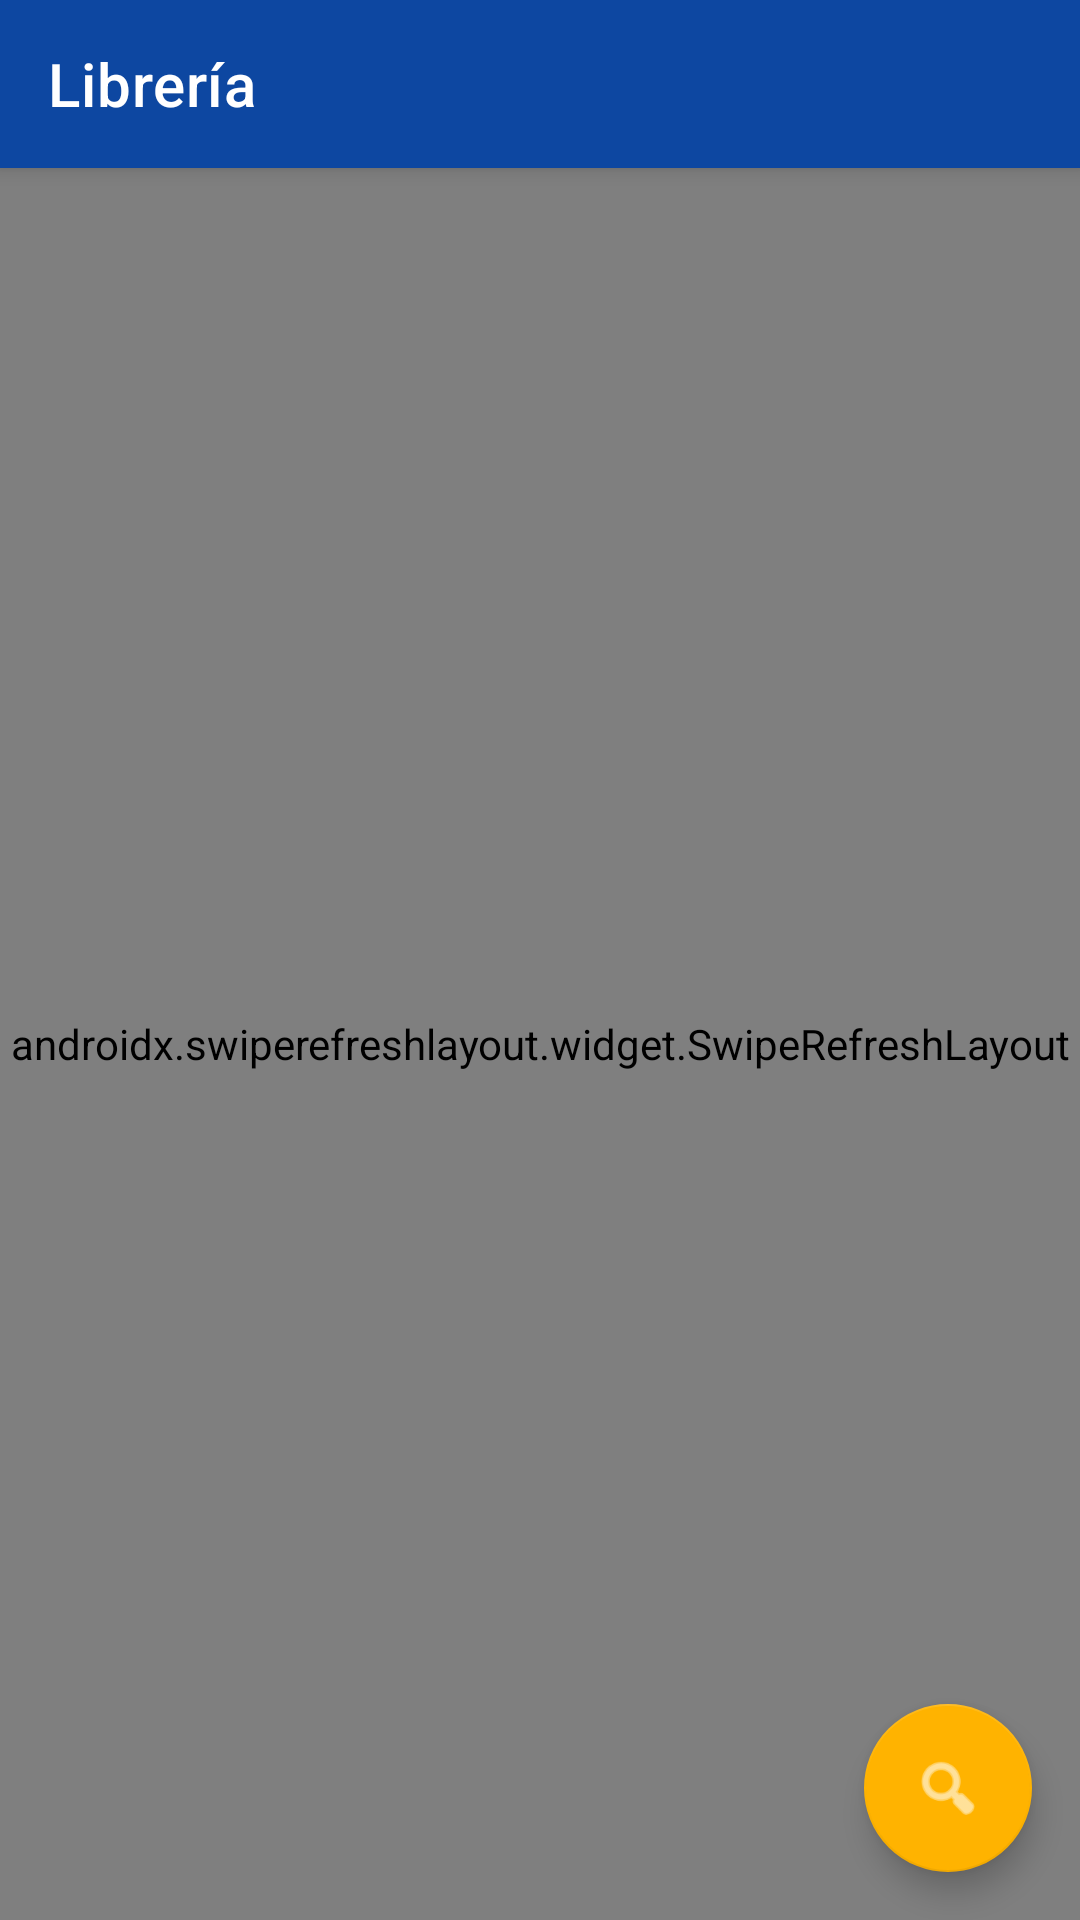

Icon bounding boxes for this 1080px×1920px phone screenshot, format (x1,y1,x2,y2):
Buscar libros: (864,1704,1032,1872)
